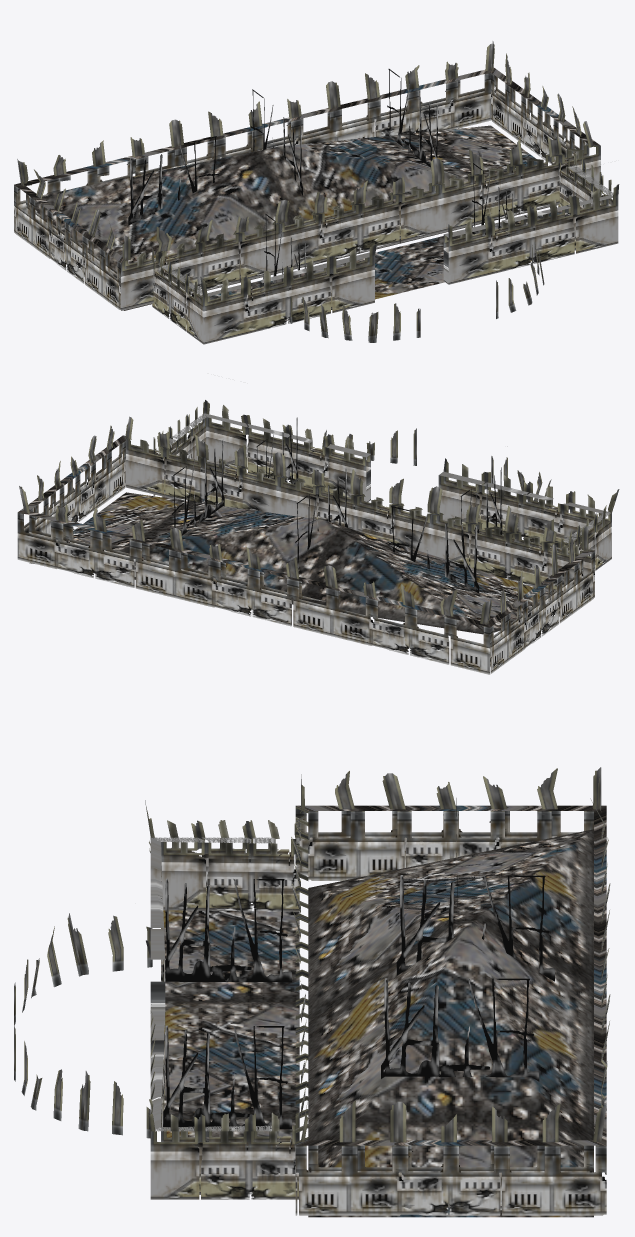
Rendered from s_main_dam.glb.
3 renders of one model, top to bottom at view 1: azimuth 30°, elevation 25°; view 2: azimuth 150°, elevation 25°; view 3: azimuth 270°, elevation 25°, orthographic. The views are drawn at different scales.
Parts seen in each view (by area): view 1: S_HC_Main; view 2: S_HC_Main; view 3: S_HC_Main.
Part boxes in pixels (bbox=[...]): S_HC_Main: bbox=[14, 41, 619, 344]; S_HC_Main: bbox=[17, 400, 619, 674]; S_HC_Main: bbox=[14, 767, 610, 1217].
Size of the model in its own units: 42.88 by 10.32 by 32.06.
4 materials, 4 textured.
